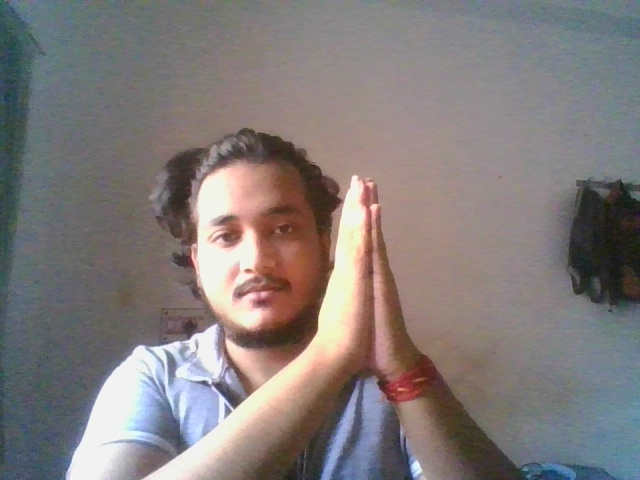ThankYou: (318, 175, 408, 374)
